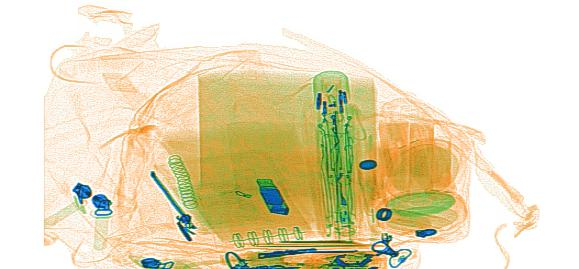USBFlashDisk: (254, 175, 293, 216)
